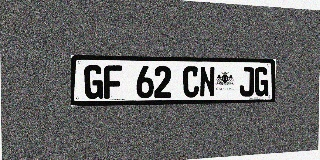2: (154, 66, 171, 98)
6: (136, 66, 154, 98)
C: (183, 66, 199, 97)
F: (104, 65, 122, 99)
G: (84, 65, 103, 99), (254, 67, 269, 96)
J: (239, 67, 254, 97)
N: (199, 66, 215, 97)
